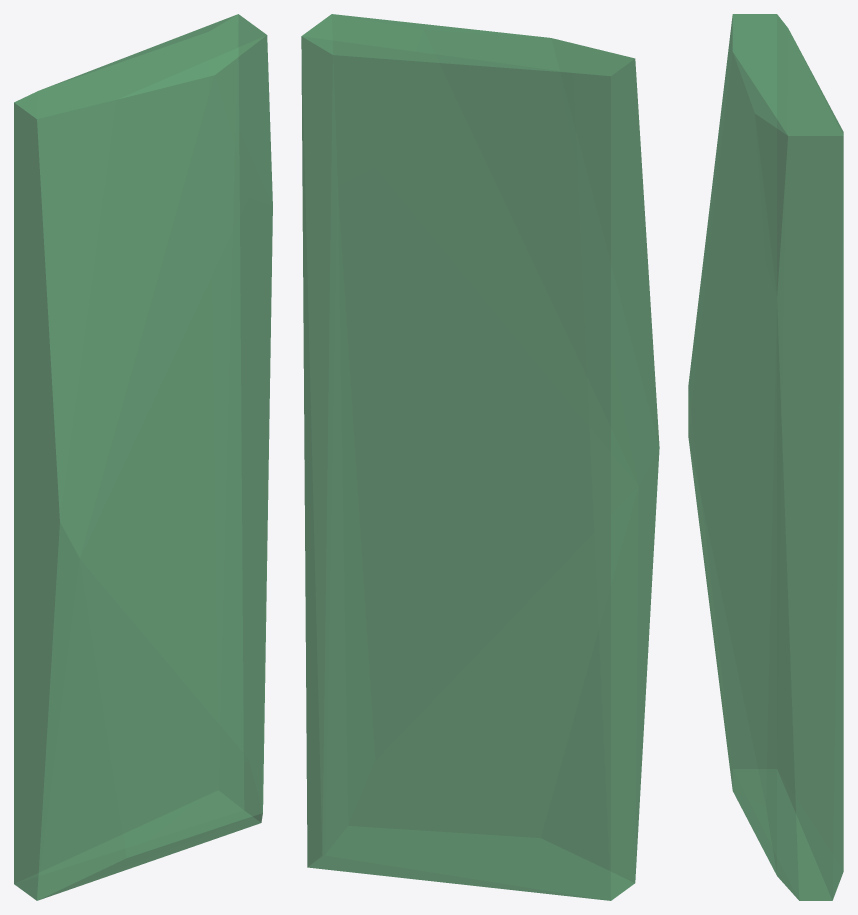
3 renders of one model, left to right at view 1: azimuth 30°, elevation 25°; view 2: azimuth 150°, elevation 25°; view 3: azimuth 270°, elevation 25°, orthographic. The views are drawn at different scales.
Visible parts, largest first — view 1: Shape_IndexedFaceSet.008_Shape_IndexedFaceSet.606; view 2: Shape_IndexedFaceSet.008_Shape_IndexedFaceSet.606; view 3: Shape_IndexedFaceSet.008_Shape_IndexedFaceSet.606.
Part boxes in pixels (bbox=[...]): Shape_IndexedFaceSet.008_Shape_IndexedFaceSet.606: bbox=[14, 14, 272, 900]; Shape_IndexedFaceSet.008_Shape_IndexedFaceSet.606: bbox=[301, 14, 659, 900]; Shape_IndexedFaceSet.008_Shape_IndexedFaceSet.606: bbox=[688, 14, 843, 900].
Size of the model in its own units: 0.0484 by 0.1416 by 0.0261.
